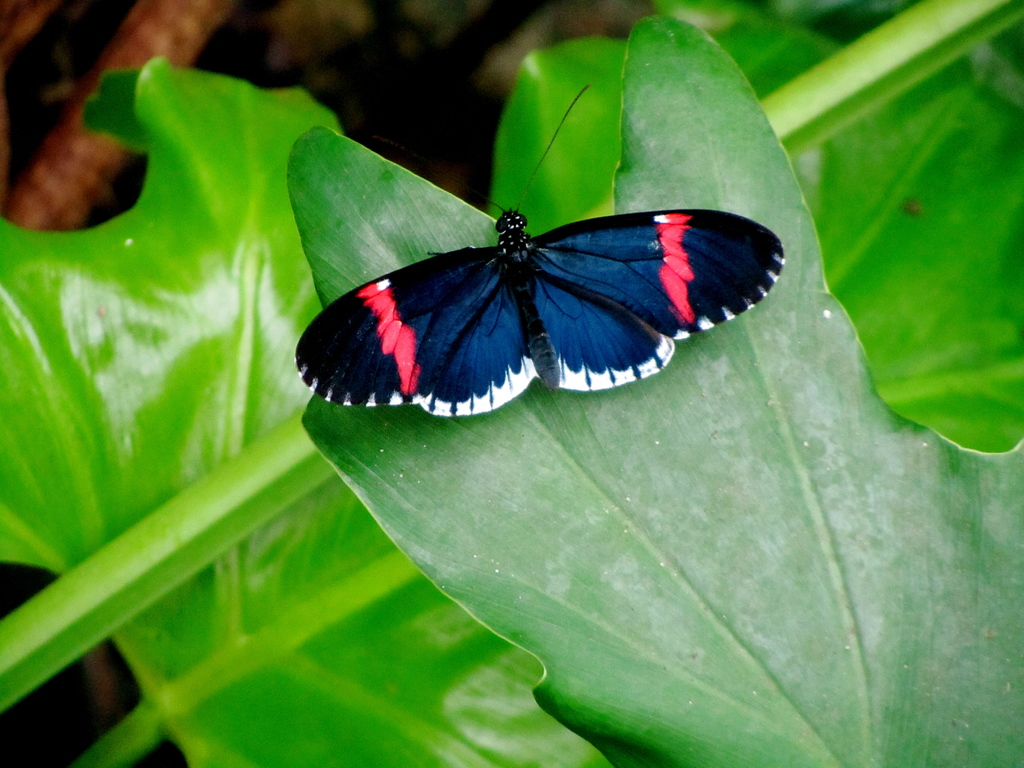Butterfly: (262, 189, 799, 421)
